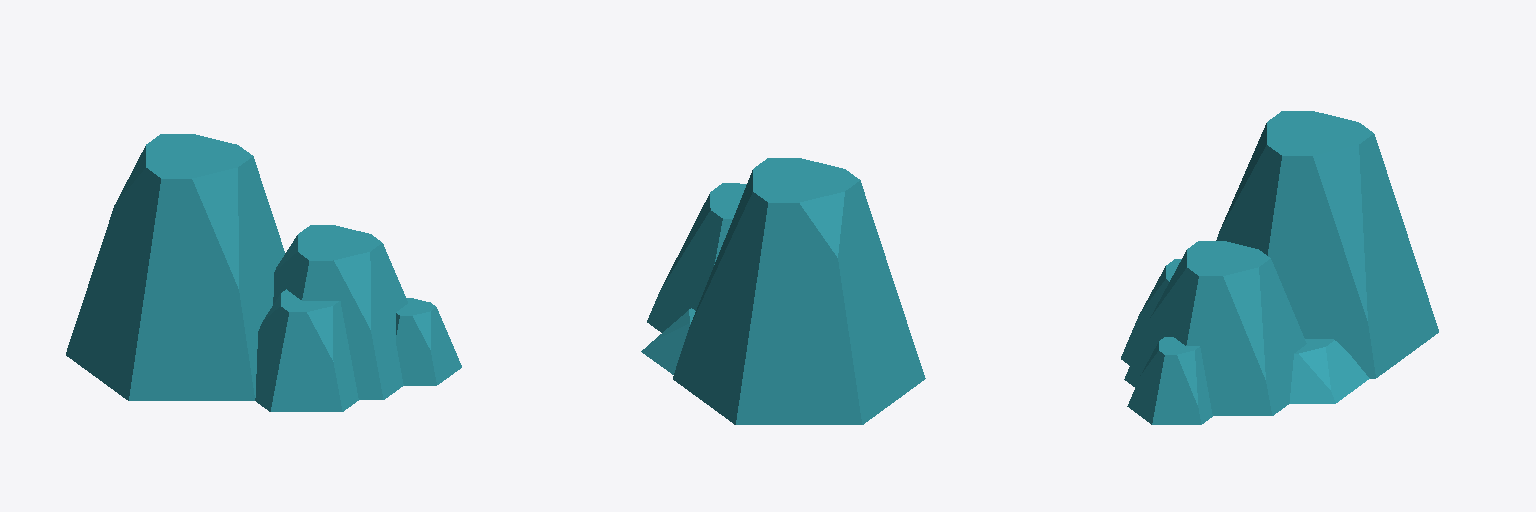
File: SomeRocks.obj
The picture shows the model from 3 angles: view 1: azimuth 30°, elevation 25°; view 2: azimuth 150°, elevation 25°; view 3: azimuth 270°, elevation 25°; orthographic projection.
Visible parts, largest first — view 1: mergedBlocks; view 2: mergedBlocks; view 3: mergedBlocks.
Part boxes in pixels (x1,y1,x2,y2): mergedBlocks: (66,134,461,411); mergedBlocks: (641,158,925,424); mergedBlocks: (1121,111,1438,424).
Bounding box in the file's own units: 1.5 × 1 × 1.45.